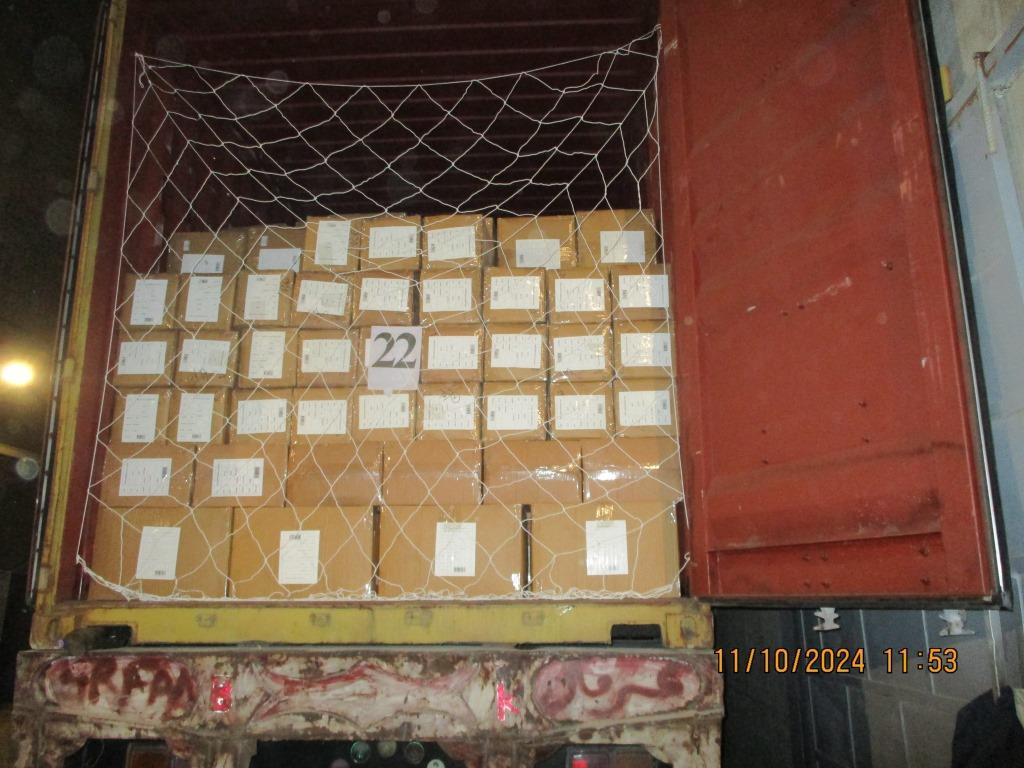carton: (530, 500, 679, 596), (230, 505, 378, 600), (378, 504, 524, 598), (88, 506, 233, 599), (581, 436, 684, 504), (382, 440, 482, 506), (287, 441, 384, 508), (483, 439, 582, 504), (192, 442, 287, 508), (99, 444, 194, 507), (575, 208, 658, 267), (496, 214, 576, 268), (108, 386, 171, 448), (483, 322, 548, 381), (547, 380, 613, 438), (421, 213, 489, 269), (481, 382, 545, 441), (417, 382, 481, 441), (356, 326, 420, 385), (547, 322, 612, 380), (614, 378, 679, 436), (173, 330, 239, 387), (110, 330, 176, 387), (289, 272, 355, 329), (236, 326, 297, 387), (420, 324, 484, 382), (174, 273, 239, 330), (545, 268, 611, 324), (168, 387, 230, 446), (295, 329, 358, 387), (351, 385, 416, 441), (614, 320, 676, 378), (228, 388, 291, 445), (417, 268, 481, 324), (166, 230, 245, 275), (119, 272, 179, 331), (290, 387, 351, 445), (360, 214, 422, 271), (300, 214, 360, 272), (232, 270, 293, 327), (483, 266, 545, 322), (611, 264, 671, 321), (352, 271, 414, 325), (243, 228, 305, 271)
